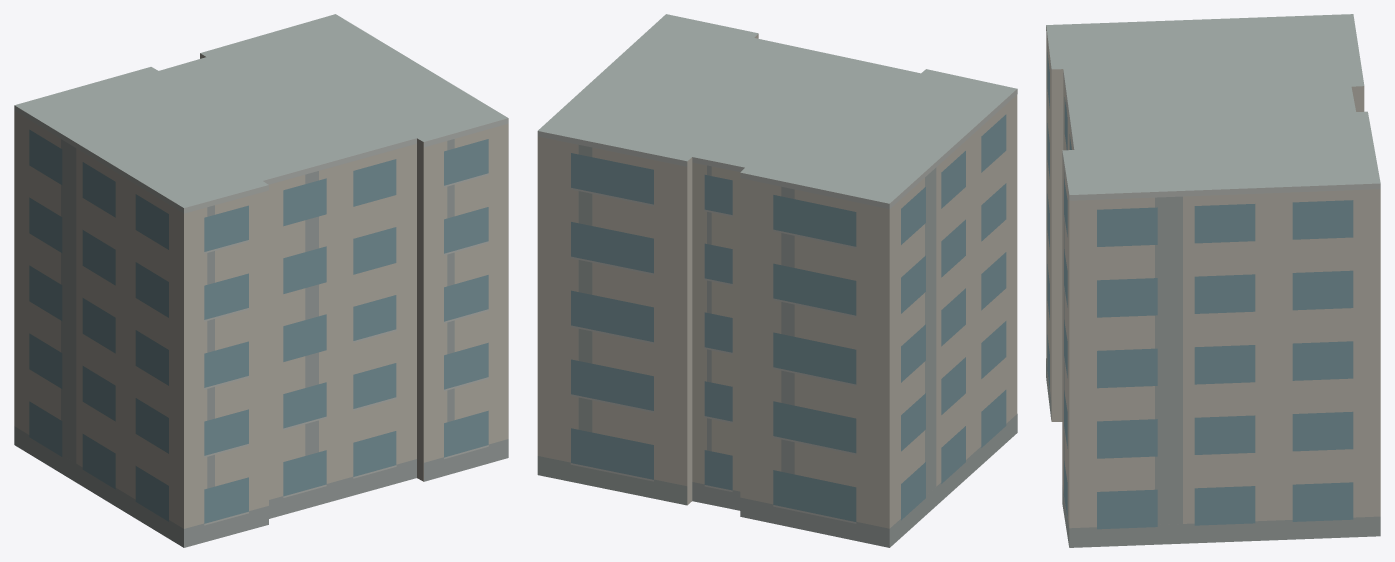
Rendered from survey-upis-32931916.glb.
The picture shows the model from 3 angles, left to right: view 1: azimuth 30°, elevation 25°; view 2: azimuth 150°, elevation 25°; view 3: azimuth 270°, elevation 25°; orthographic projection. The views are drawn at different scales.
Visible parts, largest first — view 1: survey-upis-32931916.tmp; view 2: survey-upis-32931916.tmp; view 3: survey-upis-32931916.tmp.
Boxes of the visible parts, bbox=[...] form: survey-upis-32931916.tmp: bbox=[14, 14, 508, 547]; survey-upis-32931916.tmp: bbox=[537, 14, 1017, 547]; survey-upis-32931916.tmp: bbox=[1046, 14, 1380, 547].
Bounding box in the file's own units: 16.8 × 15.25 × 13.12.
